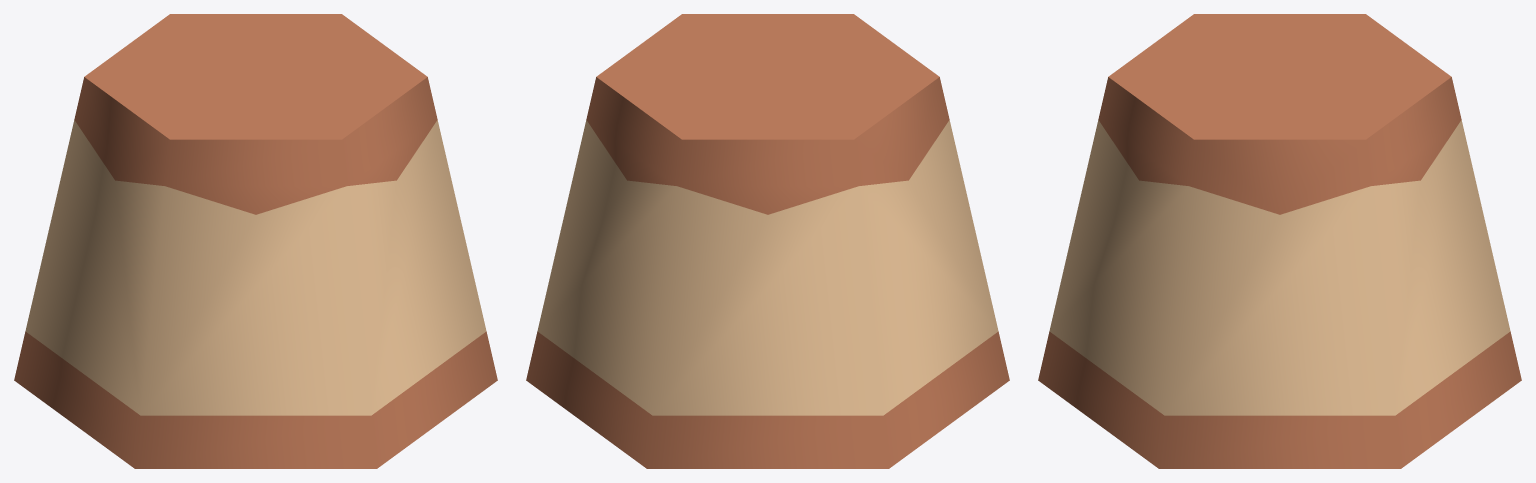
The model's file is Pudding.glb.
3 renders of one model, left to right at view 1: azimuth 30°, elevation 25°; view 2: azimuth 150°, elevation 25°; view 3: azimuth 270°, elevation 25°, orthographic.
Parts seen in each view (by area): view 1: pudding; view 2: pudding; view 3: pudding.
Boxes of the visible parts, x1,y1,x2,y2 form: pudding: (14, 14, 497, 468); pudding: (526, 14, 1009, 468); pudding: (1038, 14, 1521, 468).
Bounding box in the file's own units: 0.2499 × 0.1998 × 0.2886.
